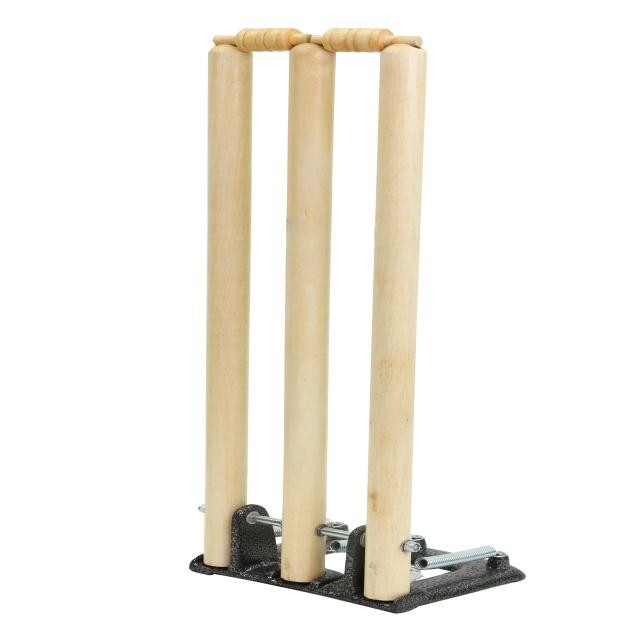stump: (203, 25, 426, 605)
